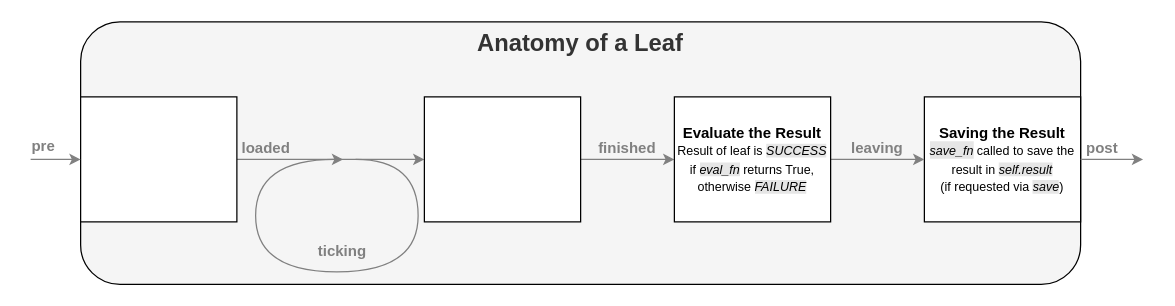
The diagram is 1175 pixels wide and 306 high, and some of its shapes have lost their labels. The box of each missing label's shape, as (x1, y1, x2, y2) in pixels:
Attain a Result Result of result_fn stored in self.result: (423, 96, 581, 222)
Load Data Result of load_fn stored in self.loaded_data: (79, 96, 237, 222)
